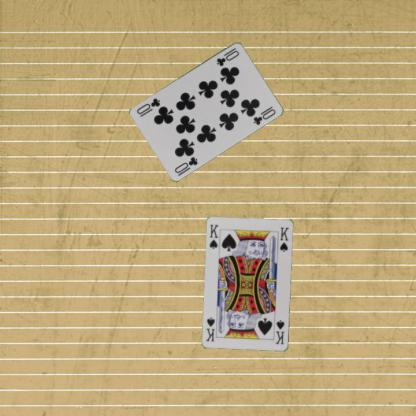10c: (214, 45, 240, 68), (172, 154, 200, 174)
Ks: (273, 318, 286, 345), (207, 223, 219, 250)
